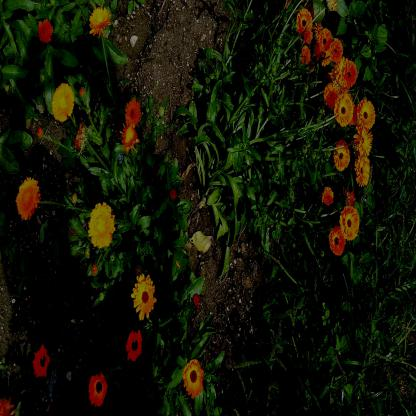marigold: (90, 205, 114, 248), (132, 277, 154, 319), (17, 177, 38, 219), (52, 84, 73, 121), (184, 362, 202, 398), (340, 206, 360, 238), (334, 96, 352, 128), (89, 374, 107, 406), (90, 6, 109, 36), (355, 126, 372, 156), (330, 226, 345, 257), (334, 142, 349, 172), (354, 158, 370, 186), (359, 100, 374, 129), (340, 62, 358, 86), (126, 98, 140, 128), (324, 84, 338, 112), (329, 38, 342, 62), (298, 10, 311, 32), (320, 29, 331, 50)
